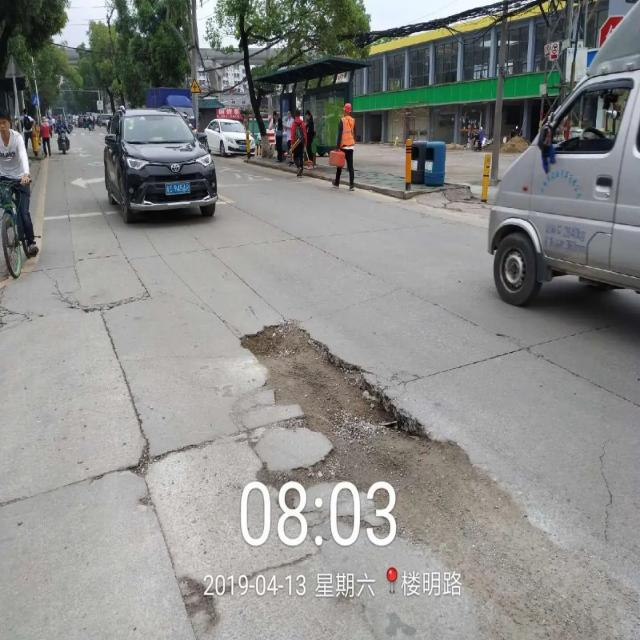Pothole: (239, 318, 472, 532), (117, 435, 172, 487)
